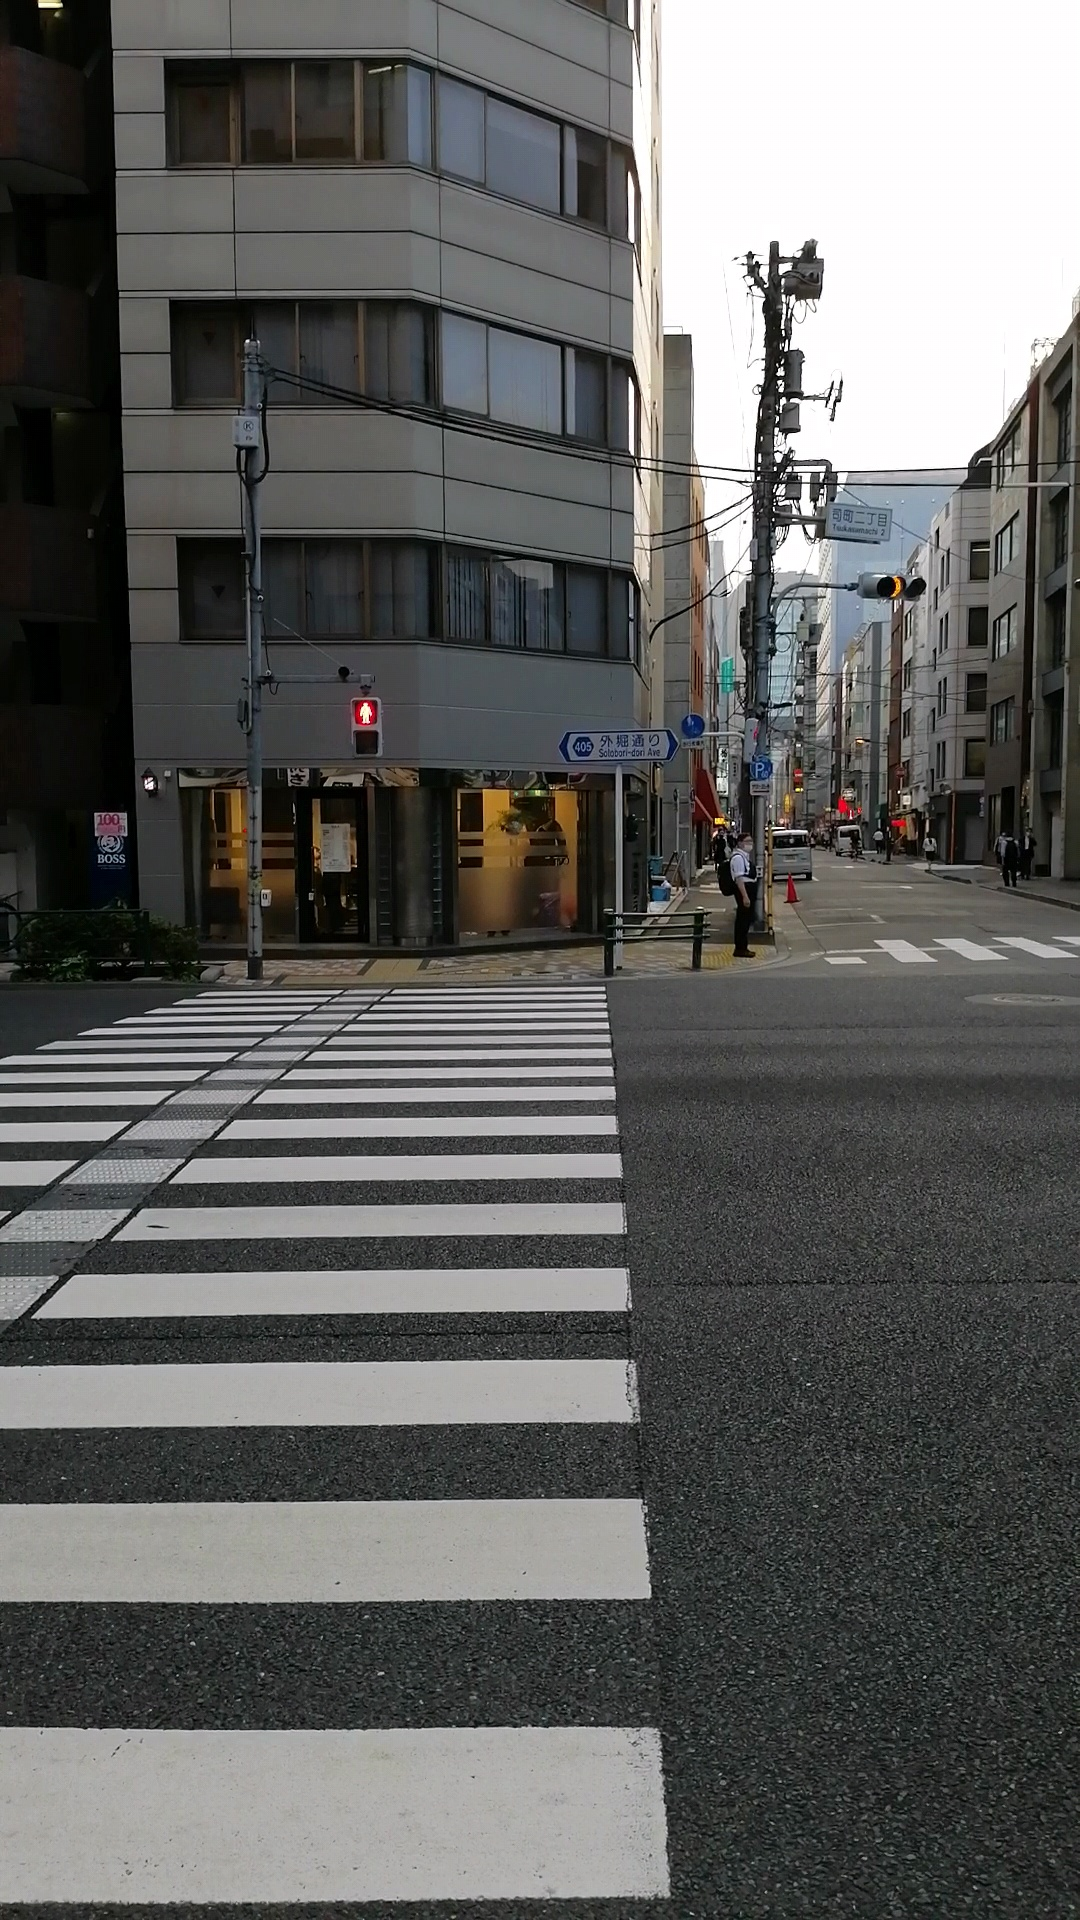red: (349, 694, 382, 760)
